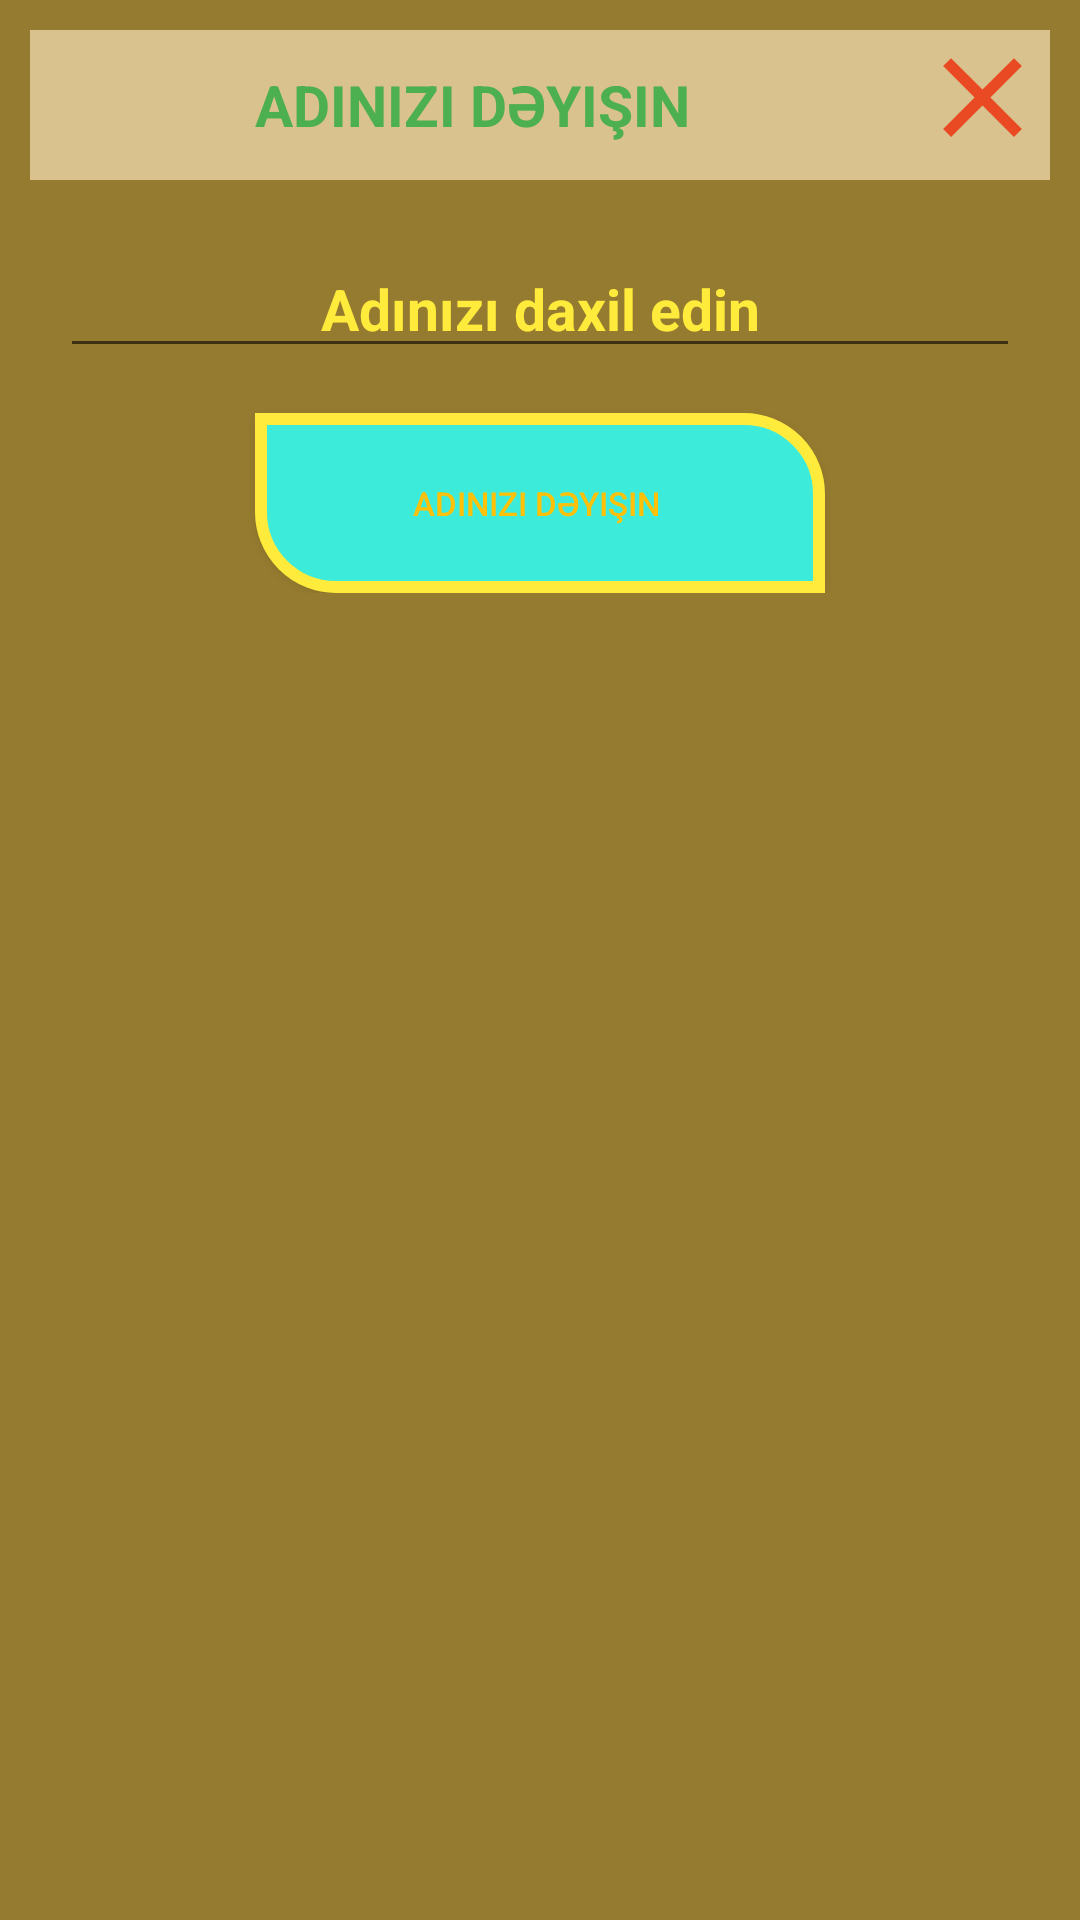

Screen size 1080 × 1920. Icon name, then its box in pixels as {"x1": x1, "y1": y1, "x2": x2, "y2": y2}:
closed: {"x1": 943, "y1": 58, "x2": 1022, "y2": 137}
